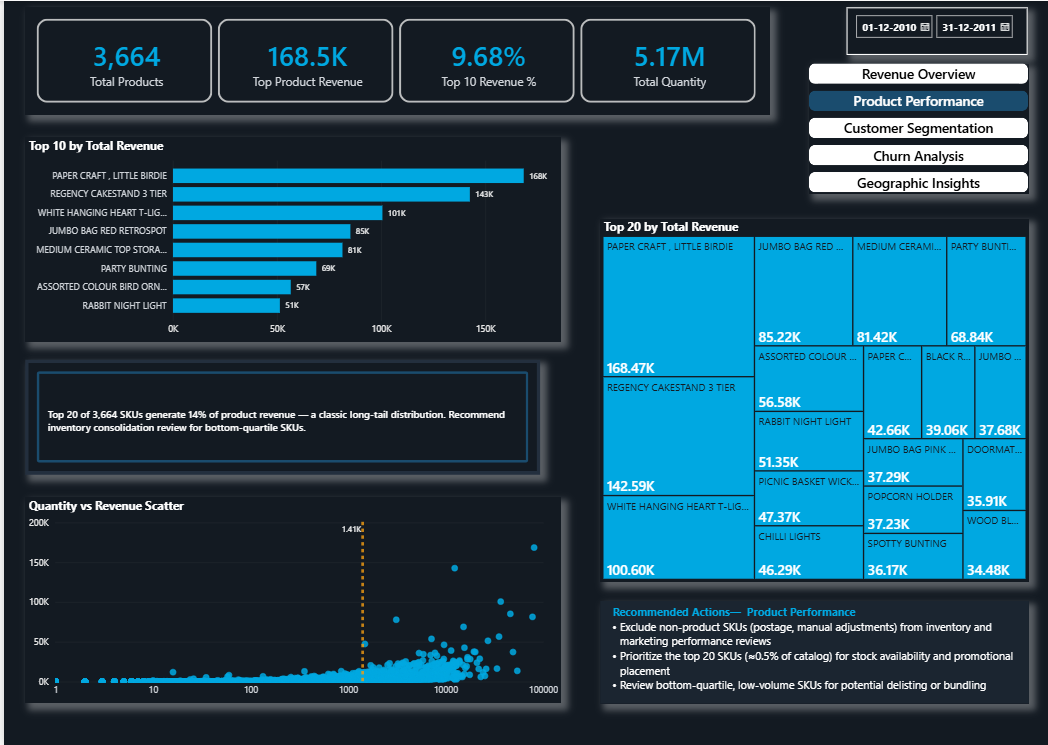

This screenshot's page, from the dashboard's own definition file:
{"tool":"powerbi","page":{"name":"Product Performance","canvas":[1540,1100],"ordinal":1},"visuals":[{"type":"slicer","fields":{"Values":["dim_date.date_id"]},"box":[1242,8.8,267.4,70.4],"z":0},{"type":"cardVisual","fields":{"Data":["fact_orders.Total Products","fact_orders.Top Product Revenue","fact_orders.Top 10 Revenue %","fact_orders.Total Quantity"]},"box":[31.7,9,1097.9,158.3],"z":1000},{"type":"clusteredBarChart","title":"Top 10 by Total Revenue","fields":{"Category":["dim_products.product_description"],"Y":["fact_orders.Total Revenue (Products Only)"]},"box":[31.2,201.6,790.6,301.6],"z":2000},{"type":"treemap","title":"Top 20 by Total Revenue","fields":{"Group":["dim_products.product_description"],"Values":["fact_orders.Total Revenue (Products Only)"]},"box":[879.2,320.7,632.2,536.4],"z":3000},{"type":"scatterChart","title":" Quantity vs Revenue Scatter","fields":{"Category":["dim_products.product_id"],"X":["fact_orders.Total Units Sold"],"Y":["fact_orders.Total Revenue"]},"box":[31.3,731.7,790.7,304.1],"z":4000},{"type":"pageNavigator","box":[1187.6,91.5,323.7,191.8],"z":5000},{"type":"cardVisual","fields":{"Data":["fact_orders.Long Tail Insight Text"]},"box":[31.3,529,759.4,169.6],"z":6000},{"type":"textbox","box":[879.2,884.7,632.2,151.1],"z":7000}]}

Visuals, with their boxes in screenshot pixels (x1, y1, x2, y2), scaled from the page's 1540x1100 canvas onto the 1048x745 screenshot:
slicer - dim_date.date_id: bbox=(845, 6, 1027, 54)
cardVisual - fact_orders.Total Products x fact_orders.Top Product Revenue: bbox=(22, 6, 769, 113)
"Top 10 by Total Revenue" clusteredBarChart: bbox=(21, 137, 559, 341)
"Top 20 by Total Revenue" treemap: bbox=(598, 217, 1029, 580)
" Quantity vs Revenue Scatter" scatterChart: bbox=(21, 496, 559, 702)
pageNavigator: bbox=(808, 62, 1028, 192)
cardVisual - fact_orders.Long Tail Insight Text: bbox=(21, 358, 538, 473)
textbox: bbox=(598, 599, 1029, 702)
